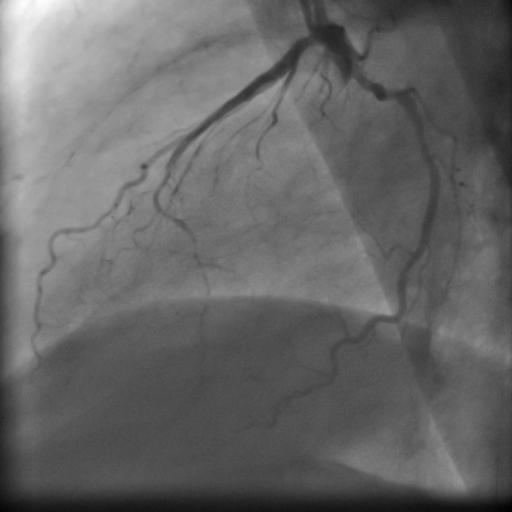Stenosis: (374, 76, 402, 109)
